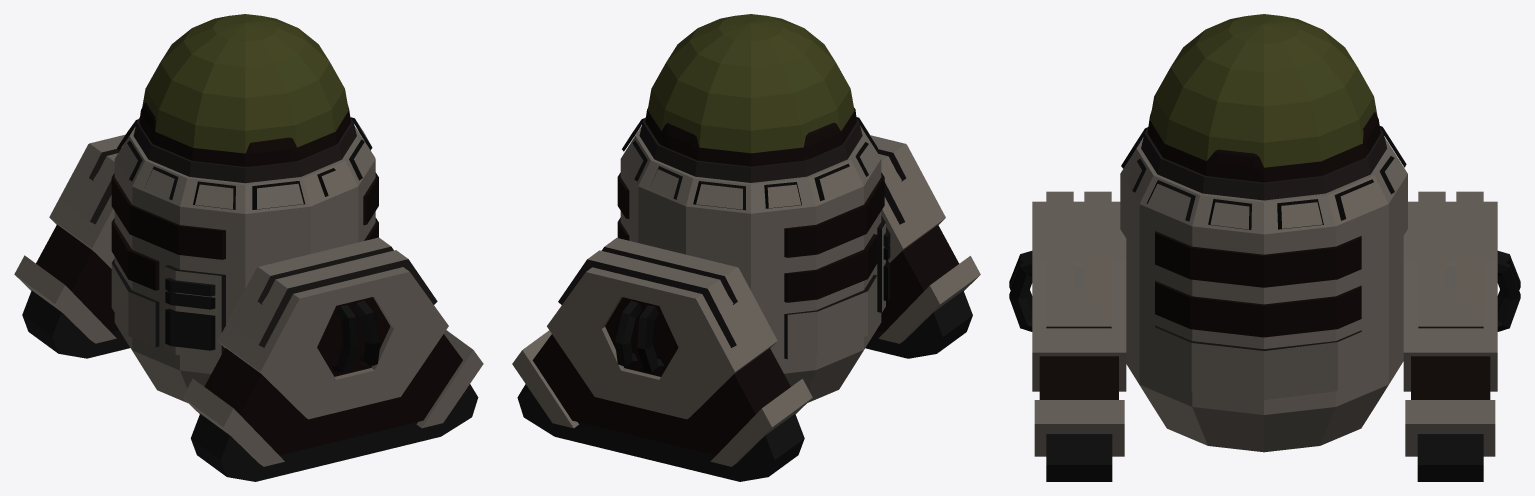
Rendered from LaserTurret.fbx.
The picture shows the model from 3 angles, left to right: view 1: azimuth 30°, elevation 25°; view 2: azimuth 150°, elevation 25°; view 3: azimuth 270°, elevation 25°; orthographic projection. The views are drawn at different scales.
Visible parts, largest first — view 1: Turret_Robot; view 2: Turret_Robot; view 3: Turret_Robot.
Part boxes in pixels (x1,y1,x2,y2): Turret_Robot: [14, 14, 483, 481]; Turret_Robot: [512, 14, 980, 481]; Turret_Robot: [1009, 14, 1520, 481].
Size of the model in its own units: 1.06 by 1.42 by 1.64.
